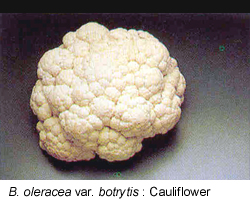cauliflower: (27, 20, 187, 165)
